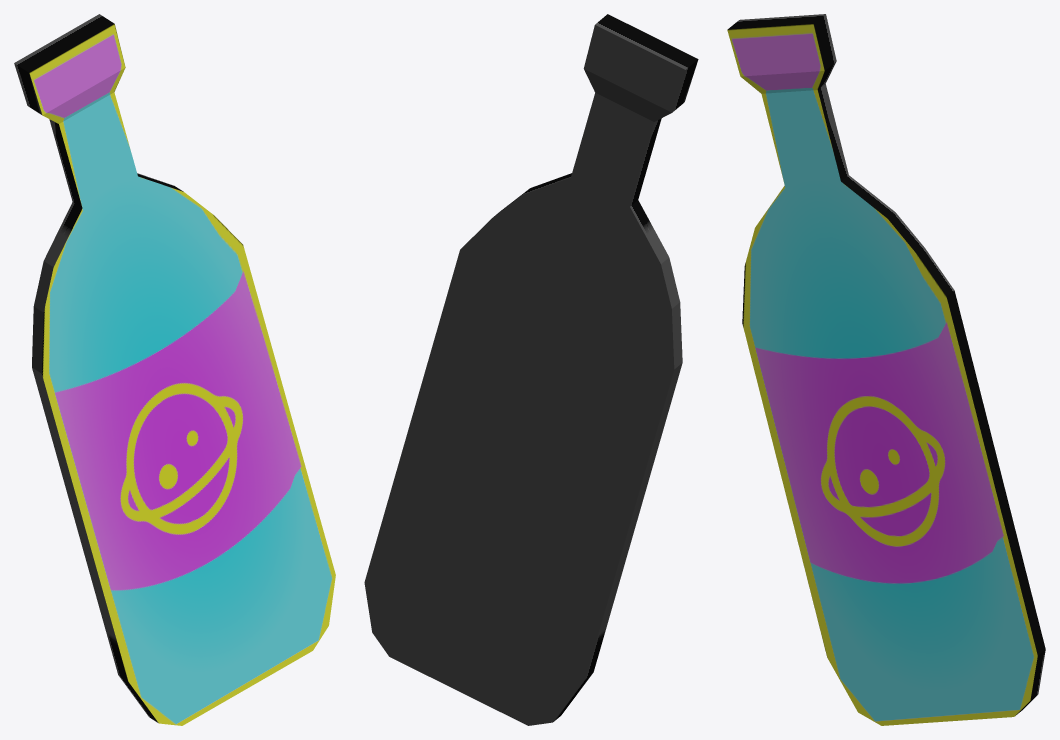
File: placaFlutuanteG3.obj
The picture shows the model from 3 angles, left to right: view 1: azimuth 30°, elevation 25°; view 2: azimuth 150°, elevation 25°; view 3: azimuth 330°, elevation 25°; orthographic projection. The views are drawn at different scales.
Visible parts, largest first — view 1: Cube.004_Cube.006; view 2: Cube.004_Cube.006; view 3: Cube.004_Cube.006.
Boxes of the visible parts, x1,y1,x2,y2 form: Cube.004_Cube.006: (14, 14, 335, 725); Cube.004_Cube.006: (364, 14, 698, 725); Cube.004_Cube.006: (727, 14, 1045, 725).
Size of the model in its own units: 15.7 by 34.07 by 1.6.
